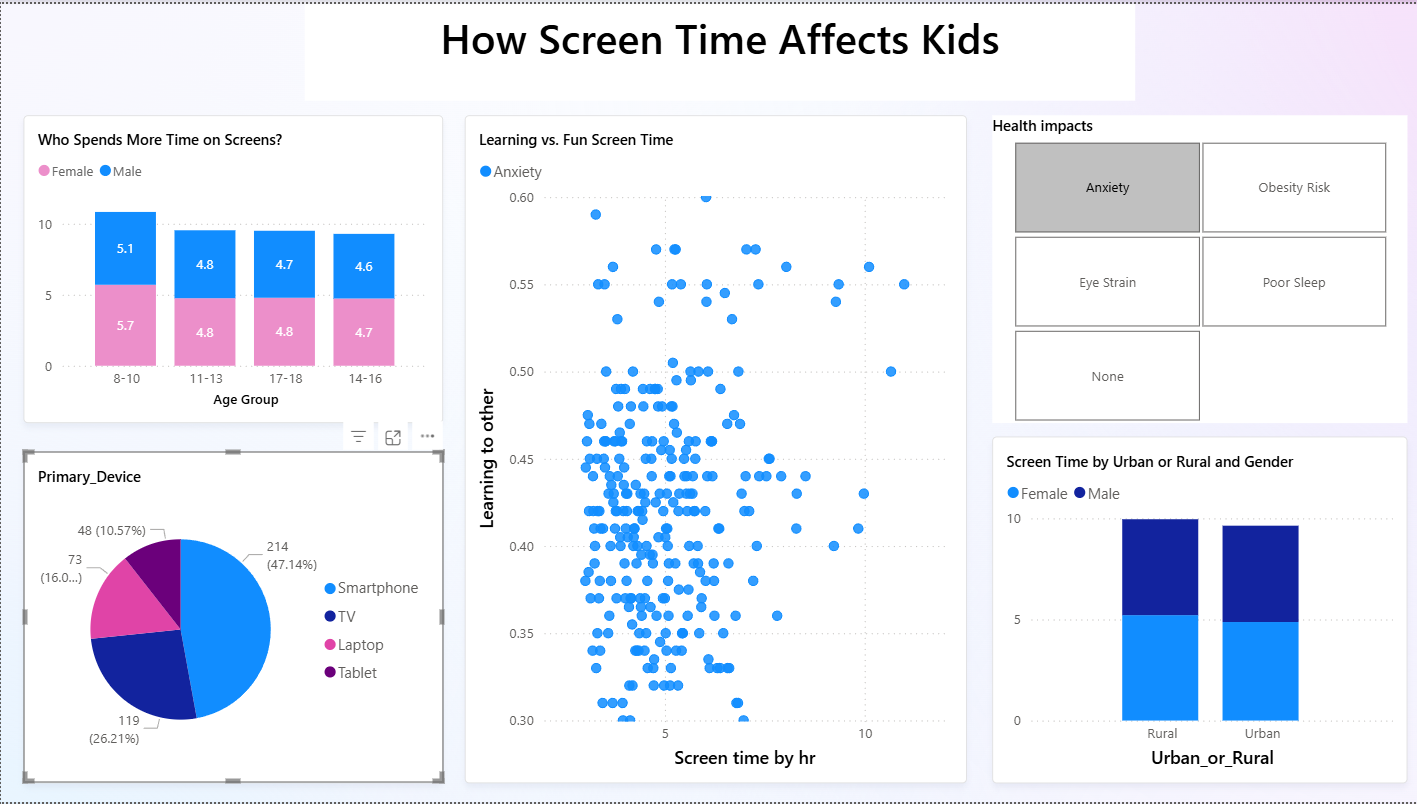

What the dashboard file says about the page in this screenshot:
{"tool":"powerbi","page":{"name":"Page 1","canvas":[1280,720],"ordinal":0},"visuals":[{"type":"columnChart","title":"Who Spends More Time on Screens?","fields":{"Category":["Indian_Kids_Screen_Time.Age Group"],"Y":["Indian_Kids_Screen_Time.Avg Screen Time"],"Series":["Indian_Kids_Screen_Time.Gender"]},"box":[20.3,100.3,378.7,277.3],"z":0},{"type":"pieChart","title":"Primary_Device","fields":{"Category":["Indian_Kids_Screen_Time.Primary_Device"],"Y":["CountNonNull(Indian_Kids_Screen_Time.Primary_Device)"]},"box":[20.6,403.4,378.7,299.1],"z":1000},{"type":"scatterChart","title":"Learning vs. Fun Screen Time","fields":{"X":["Indian_Kids_Screen_Time.Avg_Daily_Screen_Time_hr"],"Y":["Median(Indian_Kids_Screen_Time.Educational_to_Recreational_Ratio)"],"Series":["Indian_Kids_Screen_Time.Health_Impacts.1"]},"box":[418.5,100.2,452.8,602.4],"z":2000},{"type":"columnChart","title":"Screen Time by Urban or Rural and Gender","fields":{"Category":["Indian_Kids_Screen_Time.Urban_or_Rural"],"Y":["Indian_Kids_Screen_Time.Avg Screen Time"],"Series":["Indian_Kids_Screen_Time.Gender"]},"box":[893.3,389.7,374.6,312.9],"z":3000},{"type":"textbox","box":[274,0,748.9,86.8],"z":4000},{"type":"slicer","title":"Health impacts","fields":{"Values":["Indian_Kids_Screen_Time.Health_Impacts.1"]},"box":[893.6,100.4,374.5,277.4],"z":5000}]}

Visuals, with their boxes in screenshot pixels (x1, y1, x2, y2), scaled from the page's 1280x720 canvas onto the 1417x804 screenshot:
"Who Spends More Time on Screens?" columnChart: [22,112,442,422]
"Primary_Device" pieChart: [23,450,442,784]
"Learning vs. Fun Screen Time" scatterChart: [463,112,965,785]
"Screen Time by Urban or Rural and Gender" columnChart: [989,435,1404,785]
textbox: [303,0,1132,97]
"Health impacts" slicer: [989,112,1404,422]
